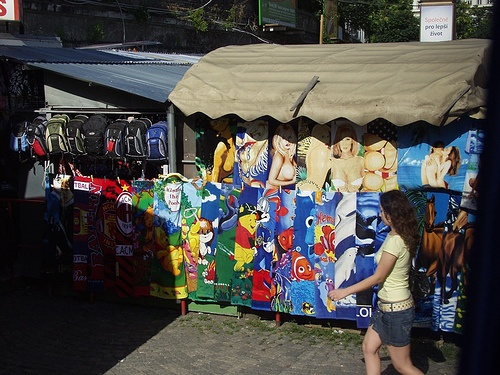head: (379, 190, 413, 231)
person: (325, 190, 438, 374), (323, 124, 369, 193), (268, 124, 299, 190), (421, 140, 454, 188)
